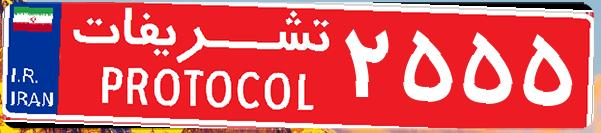2: (340, 20, 400, 115)
5: (400, 20, 460, 115), (460, 20, 520, 115), (520, 20, 580, 115)
تشریفات: (60, 8, 340, 125)
